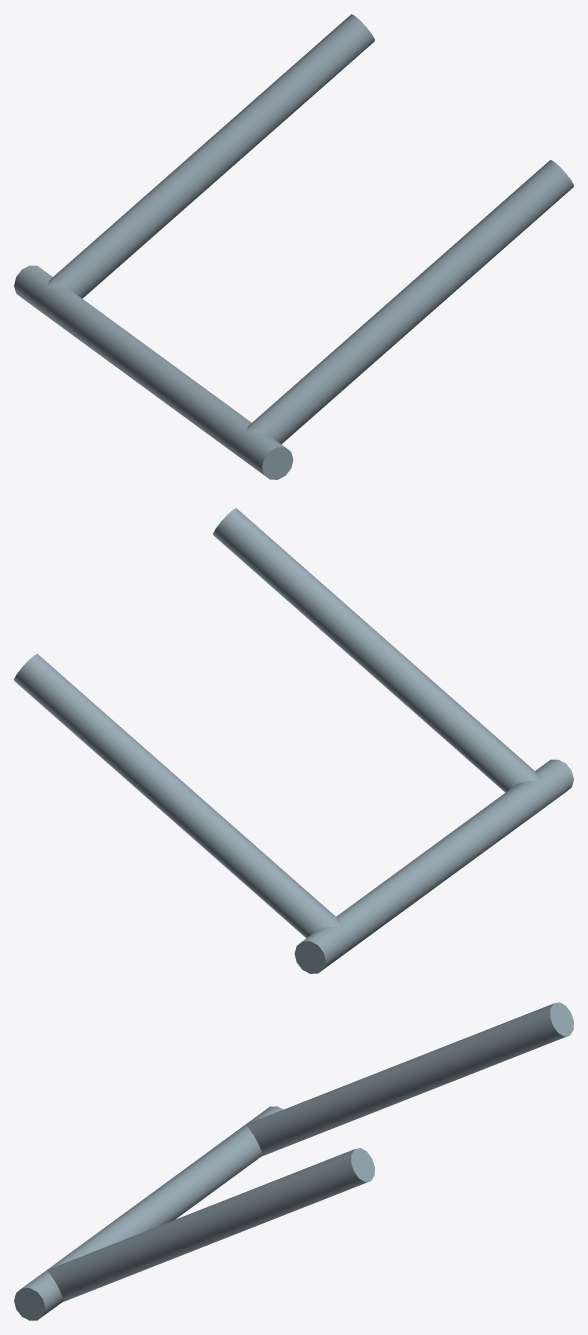
The model's file is starlink_mount_concept.dae.
3 views of the same model, one above another, from view 1: azimuth 30°, elevation 25°; view 2: azimuth 150°, elevation 25°; view 3: azimuth 330°, elevation 25° (orthographic).
Parts seen in each view (by area): view 1: node0; view 2: node0; view 3: node0.
Part boxes in pixels (<box>): node0: <box>14,14,573,479</box>; node0: <box>14,508,573,973</box>; node0: <box>14,1002,573,1320</box>.
Bounding box in the file's own units: 0.1486 × 0.192 × 0.097.
